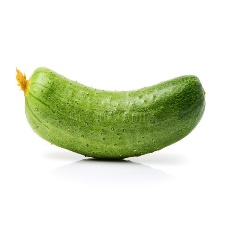cucumber: (25, 67, 201, 163)
